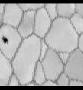good_void: (0, 35, 8, 44)
